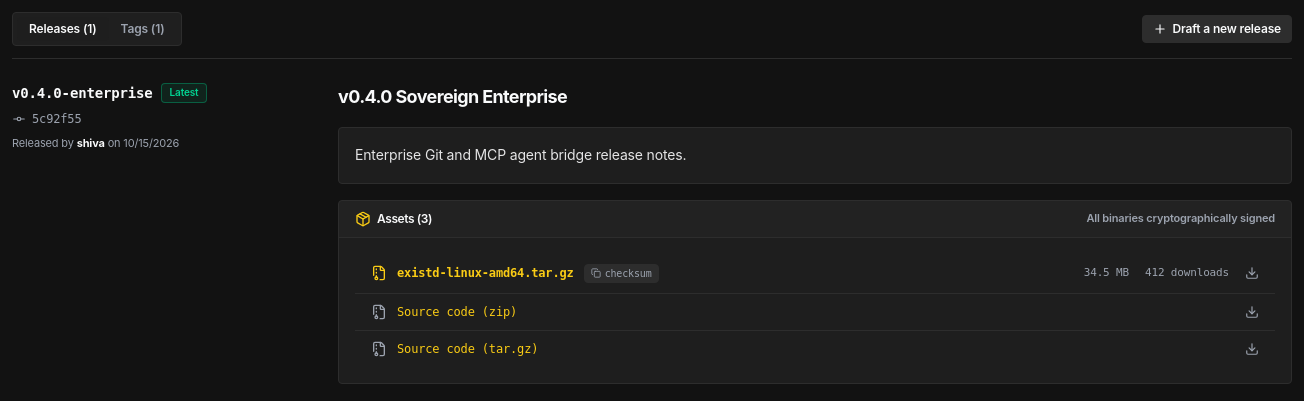
Scenario: ReleasesView › switches to Tags tab and displays verified Git tags
This screenshot has width=1304, height=401.
Expected: the text "v0.4.0-enterprise" is shown, [12, 83, 153, 103]
Click the button "Tags (1)" at (143, 29), box [109, 17, 177, 41]
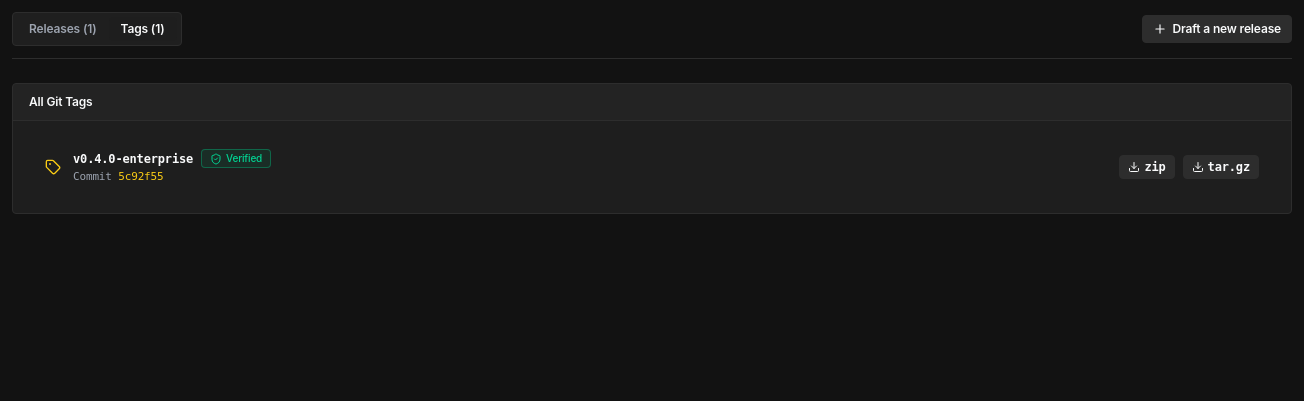
Expected: the button "zip" is shown, [1119, 155, 1175, 179]
Now the text "All Git Tags" is shown, box [29, 94, 92, 110]
Now the text "Verified" is shown, box [226, 152, 262, 165]
